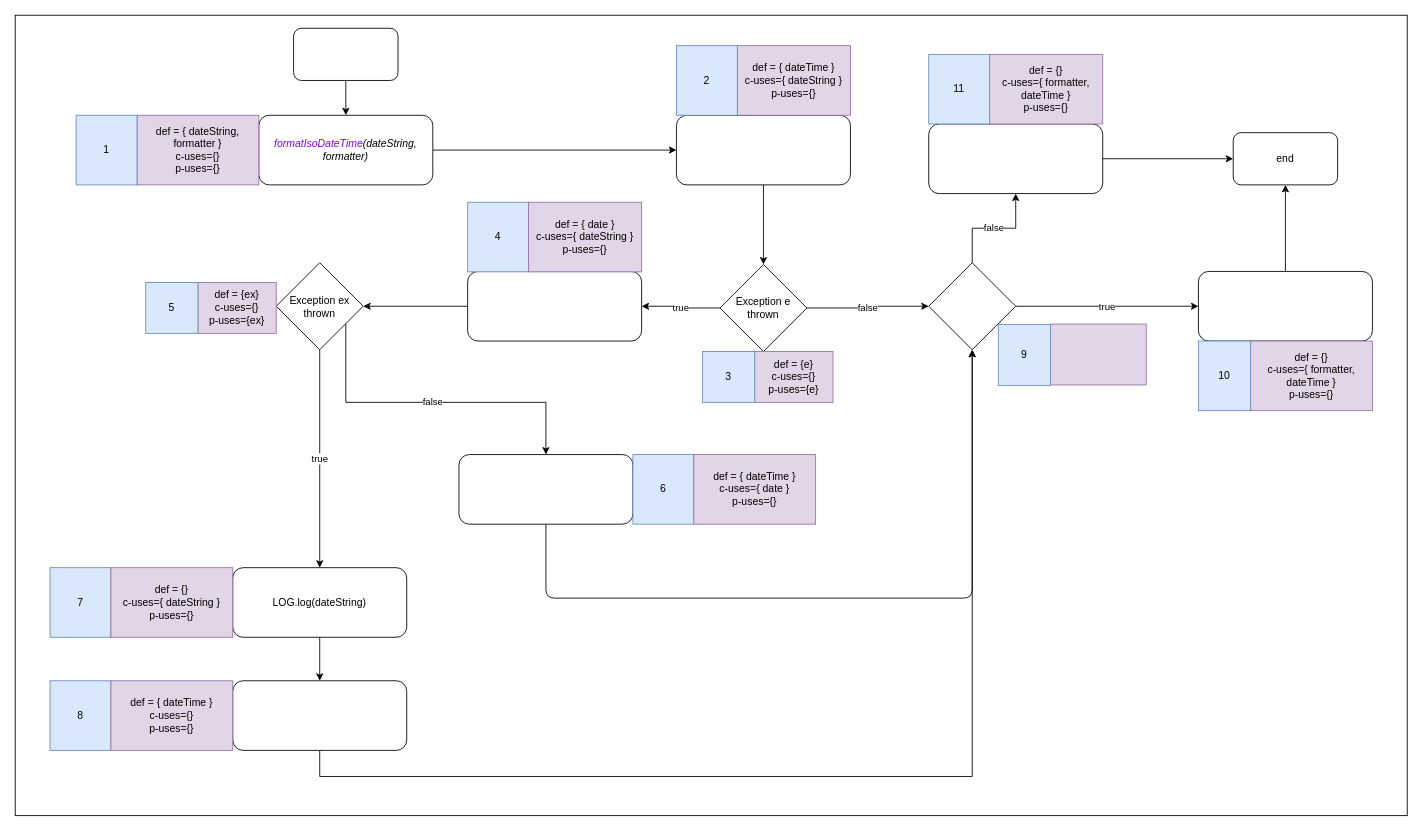
The diagram is 1422 pixels wide and 831 high, and some of its shapes have lost their labels. The centre of each missing label's shape, as x and y in pixels:
date = new Date(Long.parseLong(dateString)): point (554, 306)
dateTime = LocalDateTime .ofInstant(...): point (319, 715)
dateTime = LocalDateTime .ofInstant(date.toInstant(), ...): point (545, 489)
dateTime = LocalDateTime .parse(dateString);: point (763, 149)
def = {} c-uses={} p-uses={ formatter }: point (1098, 354)
formatter == null: point (972, 306)
return DateTimeFormatter. format(dateTime): point (1285, 306)
return formatter.format(dateTime): point (1015, 158)
start: point (345, 53)
